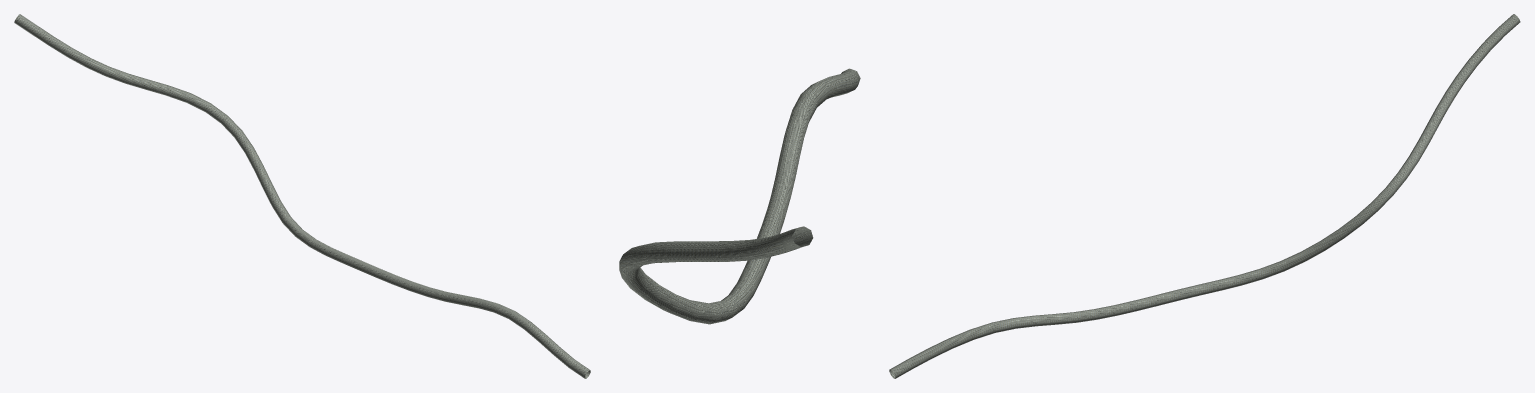
The model's file is microtubule54.fbx.
The picture shows the model from 3 angles, left to right: view 1: azimuth 30°, elevation 25°; view 2: azimuth 150°, elevation 25°; view 3: azimuth 270°, elevation 25°; orthographic projection. The views are drawn at different scales.
Visible parts, largest first — view 1: microtubule54; view 2: microtubule54; view 3: microtubule54.
Part boxes in pixels (left/top/right/bottom): microtubule54: left=14, top=14, right=590, bottom=378; microtubule54: left=619, top=68, right=860, bottom=324; microtubule54: left=889, top=14, right=1520, bottom=378.
Bounding box in the file's own units: 4610 × 3355 × 8525.
Materials: 1 (1 with a texture image).
